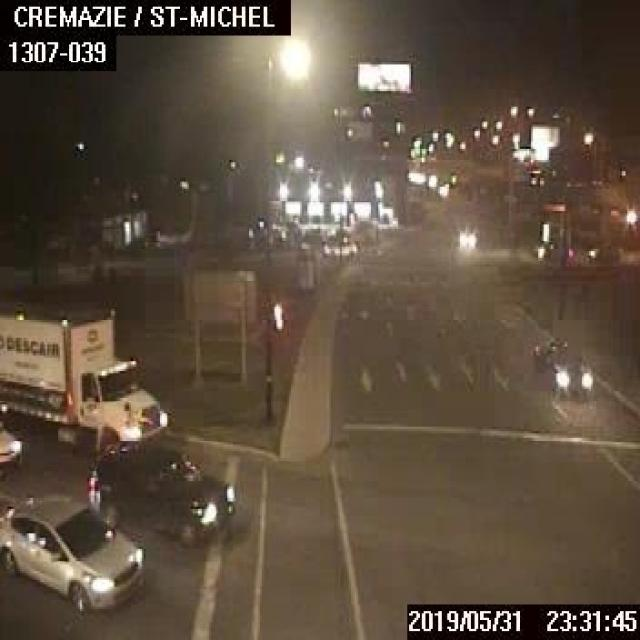vehicle: (0, 296, 165, 456), (0, 496, 142, 611), (86, 442, 234, 547), (527, 337, 593, 393), (0, 411, 20, 476), (322, 234, 354, 256), (586, 242, 622, 261), (525, 167, 543, 185)
